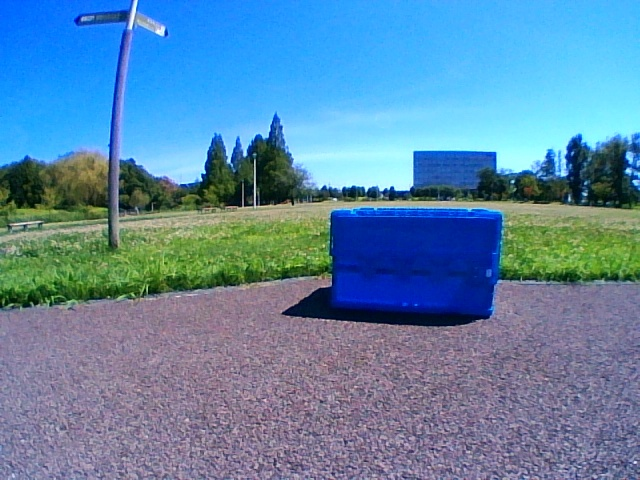blue_box: (330, 208, 503, 317)
